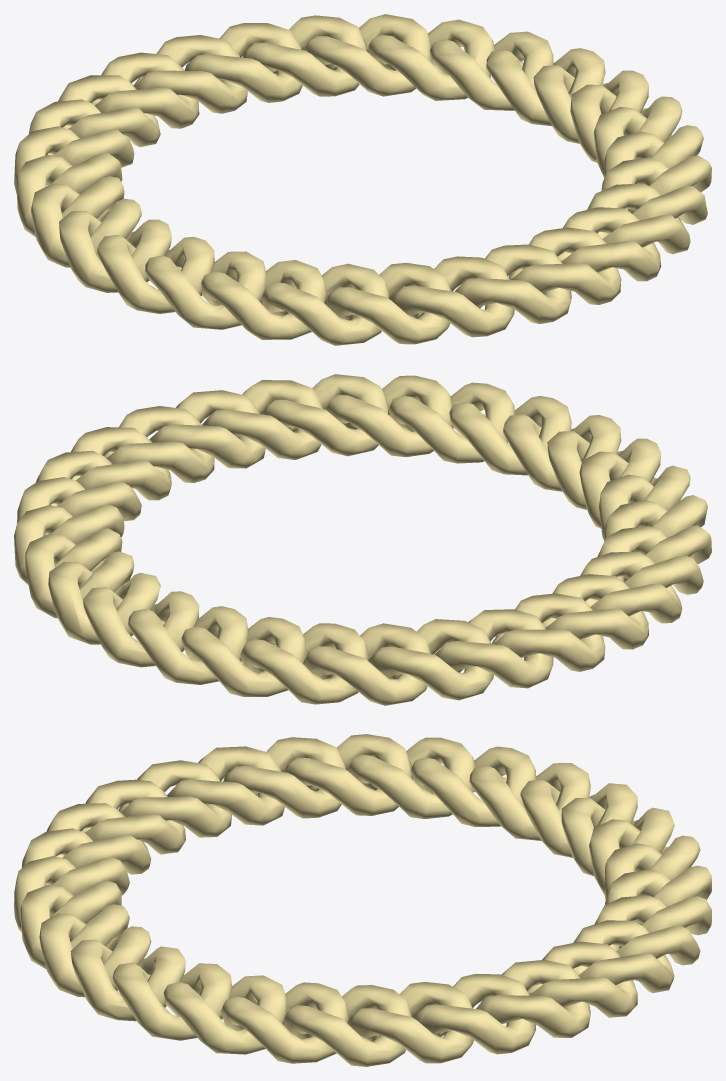
3 views of the same model, one above another, from view 1: azimuth 30°, elevation 25°; view 2: azimuth 150°, elevation 25°; view 3: azimuth 270°, elevation 25° (orthographic).
Parts seen in each view (by area): view 1: 6cmBracelet_v1; view 2: 6cmBracelet_v1; view 3: 6cmBracelet_v1.
Boxes of the visible parts, x1,y1,x2,y2 form: 6cmBracelet_v1: (14, 14, 711, 345); 6cmBracelet_v1: (14, 374, 711, 705); 6cmBracelet_v1: (14, 734, 711, 1066).
Bounding box in the file's own units: 7.08 × 0.4545 × 7.07.
